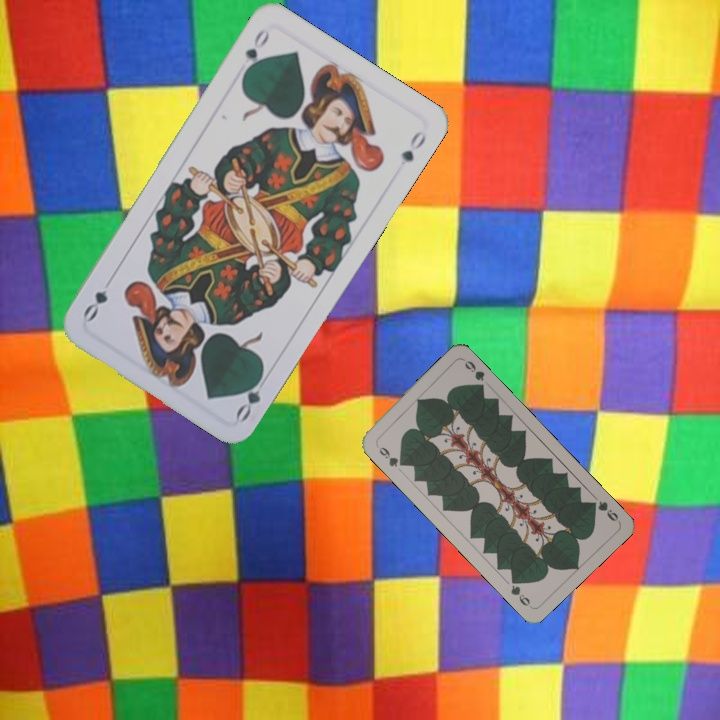G9: (372, 440, 407, 470), (585, 497, 622, 525)
GO: (231, 367, 272, 424), (238, 25, 272, 80)
